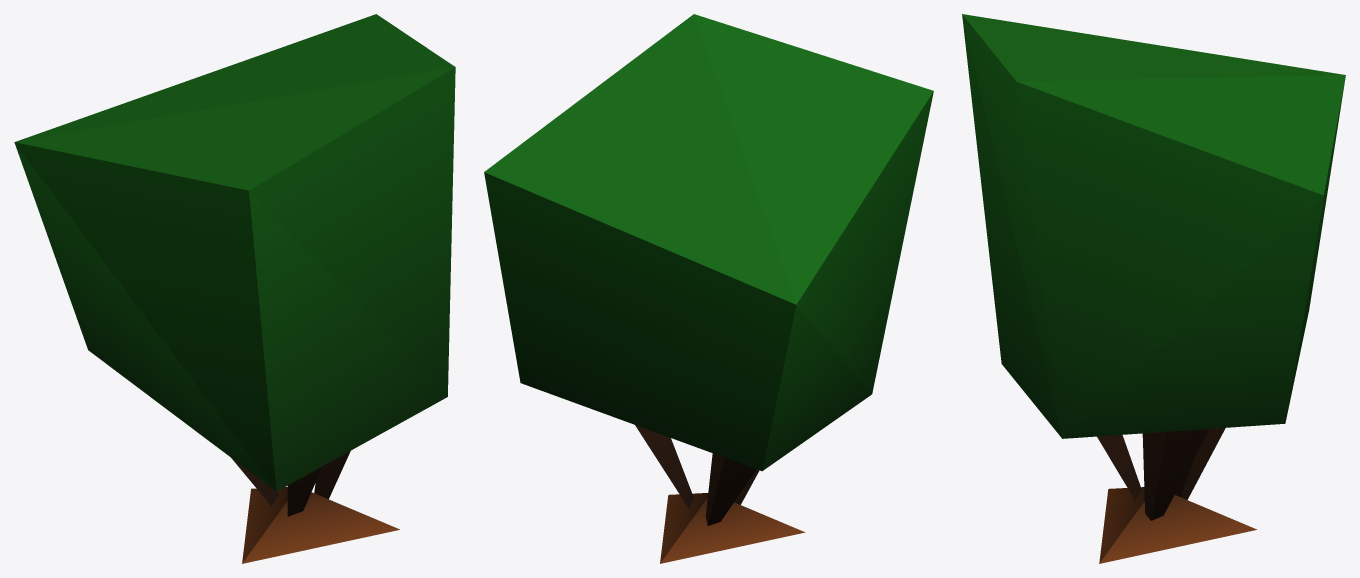
File: c_hedge_square_ab.fbx
3 renders of one model, left to right at view 1: azimuth 30°, elevation 25°; view 2: azimuth 150°, elevation 25°; view 3: azimuth 270°, elevation 25°, orthographic. The views are drawn at different scales.
Visible parts, largest first — view 1: c_hedge_square_ab; view 2: c_hedge_square_ab; view 3: c_hedge_square_ab.
Part boxes in pixels (x1=…): c_hedge_square_ab: x1=14, y1=14, x2=455, y2=563; c_hedge_square_ab: x1=484, y1=14, x2=933, y2=563; c_hedge_square_ab: x1=962, y1=14, x2=1345, y2=563.
Bounding box in the file's own units: 1.18 × 1.63 × 1.12.
